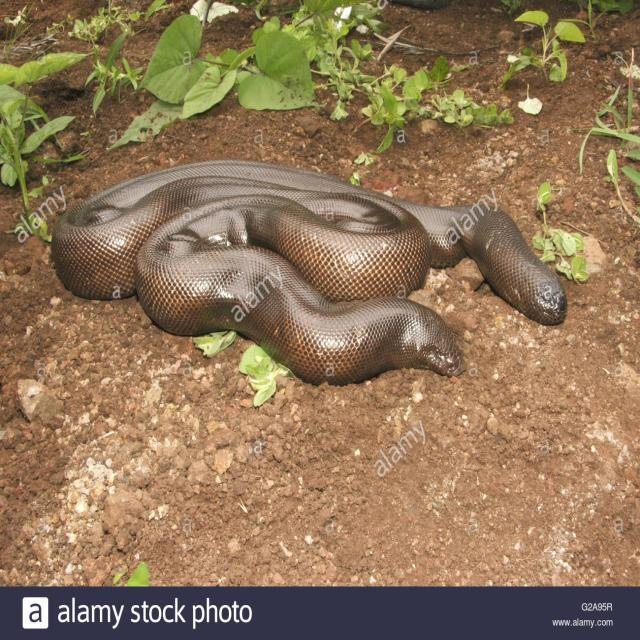Snake: (50, 158, 568, 386)
